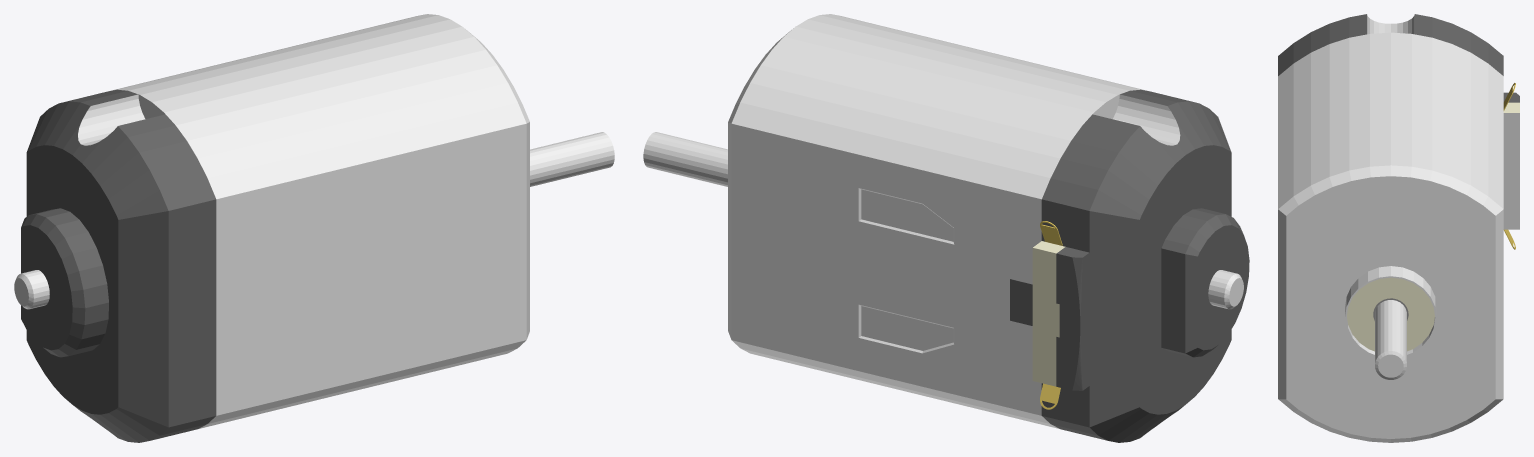
The model's file is Small+DC+Motor.fbx.
3 views of the same model, side by side, from view 1: azimuth 30°, elevation 25°; view 2: azimuth 150°, elevation 25°; view 3: azimuth 270°, elevation 25° (orthographic). The views are drawn at different scales.
Parts seen in each view (by area): view 1: imagetostl_mesh30, imagetostl_mesh369, imagetostl_mesh383, imagetostl_mesh23, imagetostl_mesh89, imagetostl_mesh413, imagetostl_mesh311, imagetostl_mesh359, imagetostl_mesh264, imagetostl_mesh296, imagetostl_mesh33, imagetostl_mesh303 (+15 smaller); view 2: imagetostl_mesh227, imagetostl_mesh369, imagetostl_mesh432, imagetostl_mesh350, imagetostl_mesh284, imagetostl_mesh262, imagetostl_mesh257, imagetostl_mesh338, imagetostl_mesh303, imagetostl_mesh33, imagetostl_mesh296, imagetostl_mesh171 (+24 smaller); view 3: imagetostl_mesh341, imagetostl_mesh297, imagetostl_mesh296, imagetostl_mesh303, imagetostl_mesh257, imagetostl_mesh264, imagetostl_mesh338, imagetostl_mesh359, imagetostl_mesh262, imagetostl_mesh311, imagetostl_mesh284, imagetostl_mesh413 (+22 smaller).
Part boxes in pixels (x1,y1,x2,y2): imagetostl_mesh30: (216,123,526,415); imagetostl_mesh369: (26,145,118,414); imagetostl_mesh383: (168,199,216,427); imagetostl_mesh23: (118,211,168,427); imagetostl_mesh89: (207,102,526,199); imagetostl_mesh413: (198,83,517,177); imagetostl_mesh311: (187,65,507,158); imagetostl_mesh359: (176,50,496,140); imagetostl_mesh264: (164,37,485,125); imagetostl_mesh296: (152,26,473,112); imagetostl_mesh33: (21,225,72,350); imagetostl_mesh303: (140,19,461,102); imagetostl_mesh227: (731,123,1041,415); imagetostl_mesh369: (1139,145,1231,414); imagetostl_mesh432: (1089,211,1139,426); imagetostl_mesh350: (731,102,1050,199); imagetostl_mesh284: (740,83,1059,177); imagetostl_mesh262: (750,65,1070,158); imagetostl_mesh257: (761,50,1082,140); imagetostl_mesh338: (772,37,1093,125); imagetostl_mesh303: (784,26,1105,112); imagetostl_mesh33: (1198,225,1249,350); imagetostl_mesh296: (796,19,1117,101); imagetostl_mesh171: (1032,248,1056,386); imagetostl_mesh341: (1286,176,1495,438); imagetostl_mesh297: (1347,277,1434,351); imagetostl_mesh296: (1370,32,1390,166); imagetostl_mesh303: (1391,32,1411,166); imagetostl_mesh257: (1432,37,1452,176); imagetostl_mesh264: (1349,34,1369,170); imagetostl_mesh338: (1412,34,1432,170); imagetostl_mesh359: (1329,38,1349,176); imagetostl_mesh262: (1452,44,1470,185); imagetostl_mesh311: (1311,44,1329,185); imagetostl_mesh284: (1471,53,1488,195); imagetostl_mesh413: (1293,53,1310,195).
Bounding box in the file's own units: 145 × 74.8 × 59.06.
